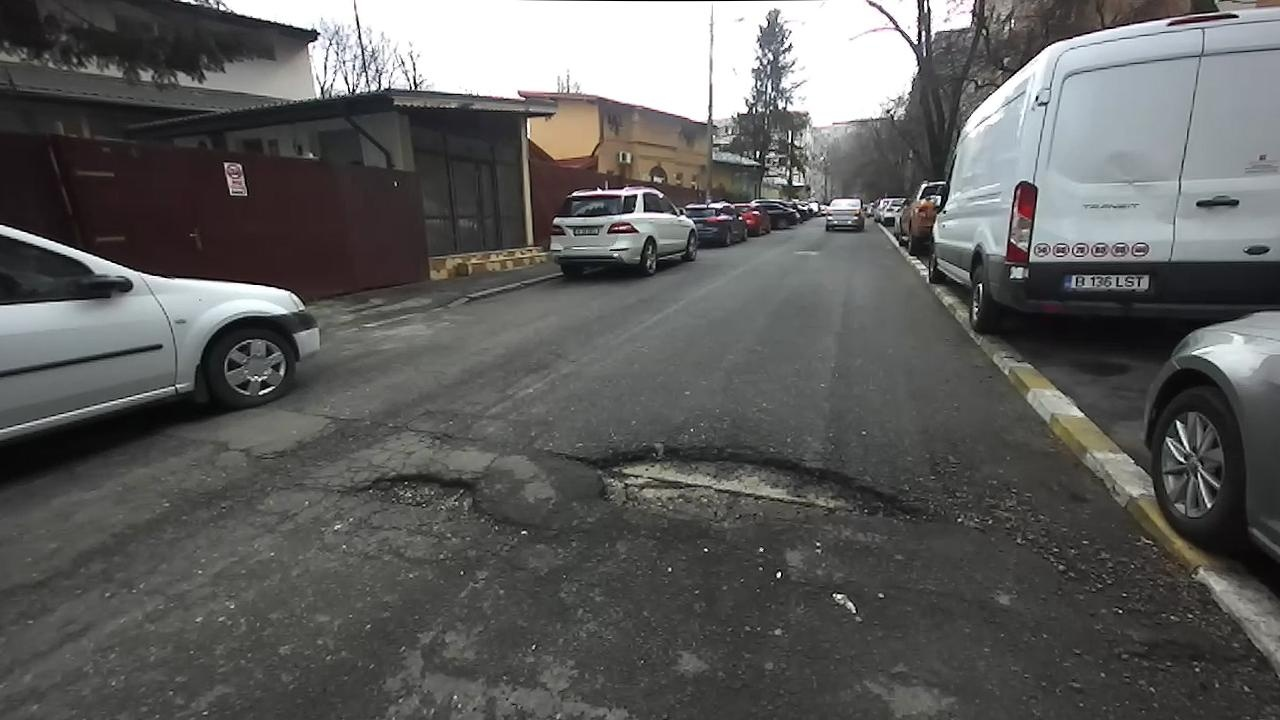pothole: (563, 438, 950, 532), (332, 462, 508, 530)
